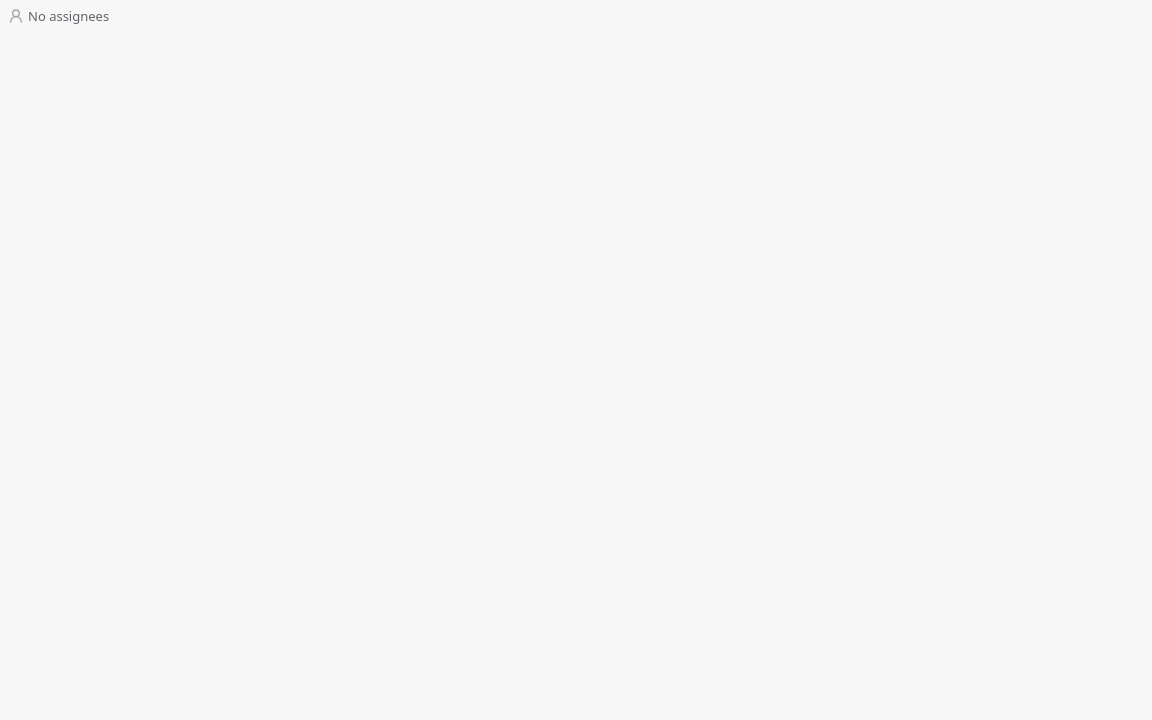
Test case: AssigneeField › offers a quick filter above 6 members
Click the button named "Assignees:" at point(59, 15), box [0,0,1151,32]
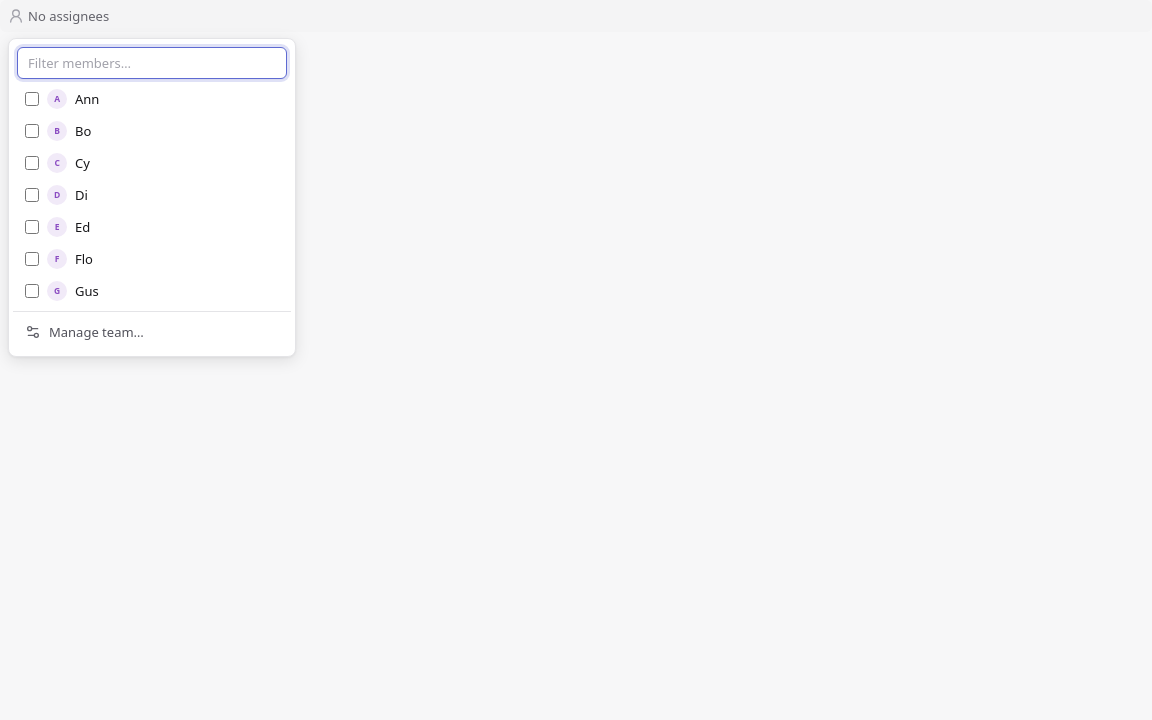
Type "g" into the field labelled "Filter members" at point(152, 63), box [17,47,287,79]
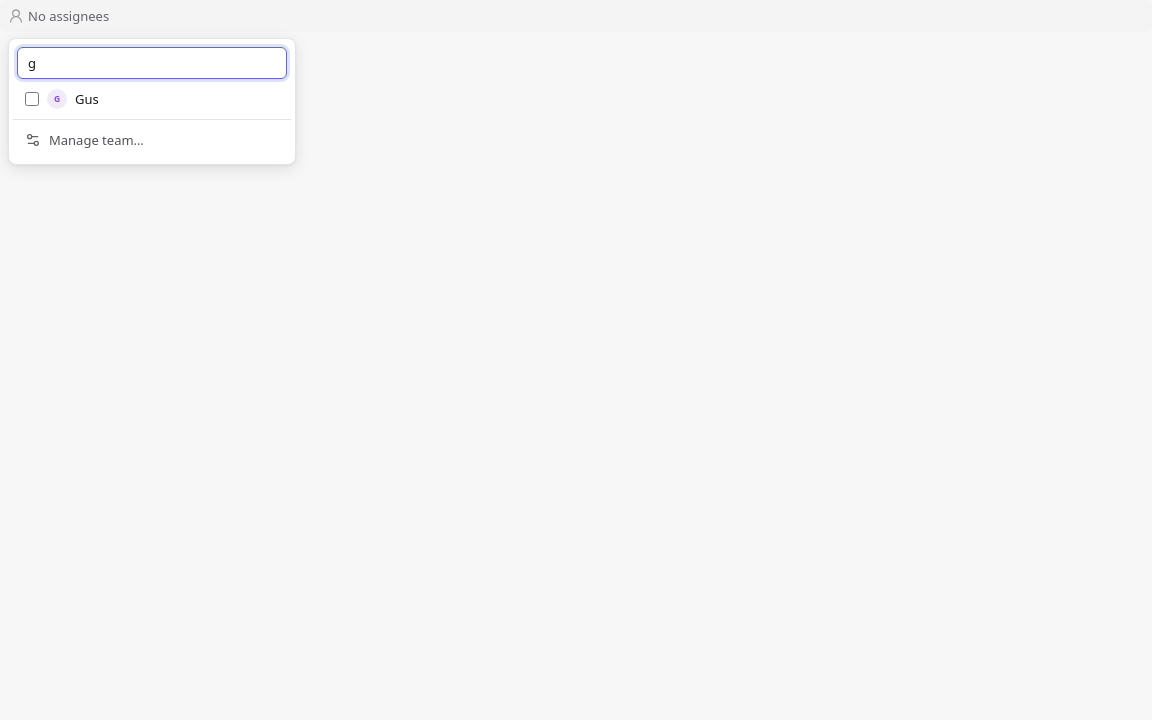
expect the number of checkboxes is 1: met, box [25,92,39,106]
